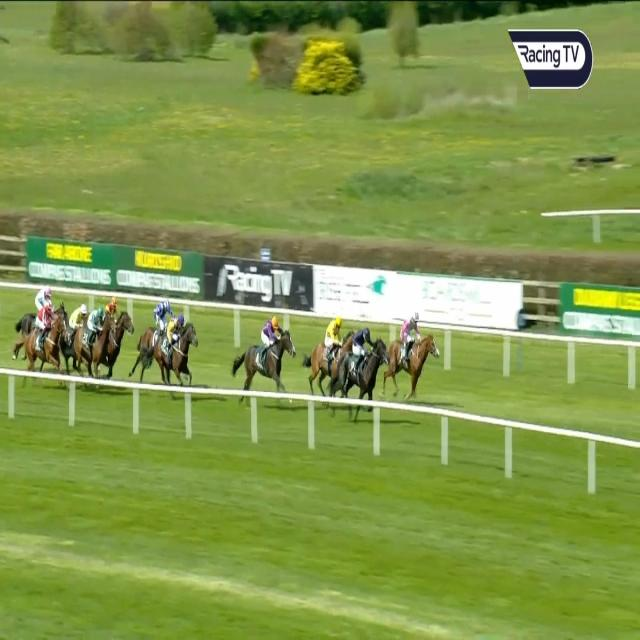horses-racing: (384, 312, 438, 404), (331, 326, 390, 410), (241, 318, 294, 394), (308, 317, 357, 396), (152, 314, 197, 387), (20, 304, 64, 376), (19, 285, 70, 330), (105, 294, 136, 366), (143, 297, 170, 378), (78, 310, 108, 378), (63, 303, 91, 369)
